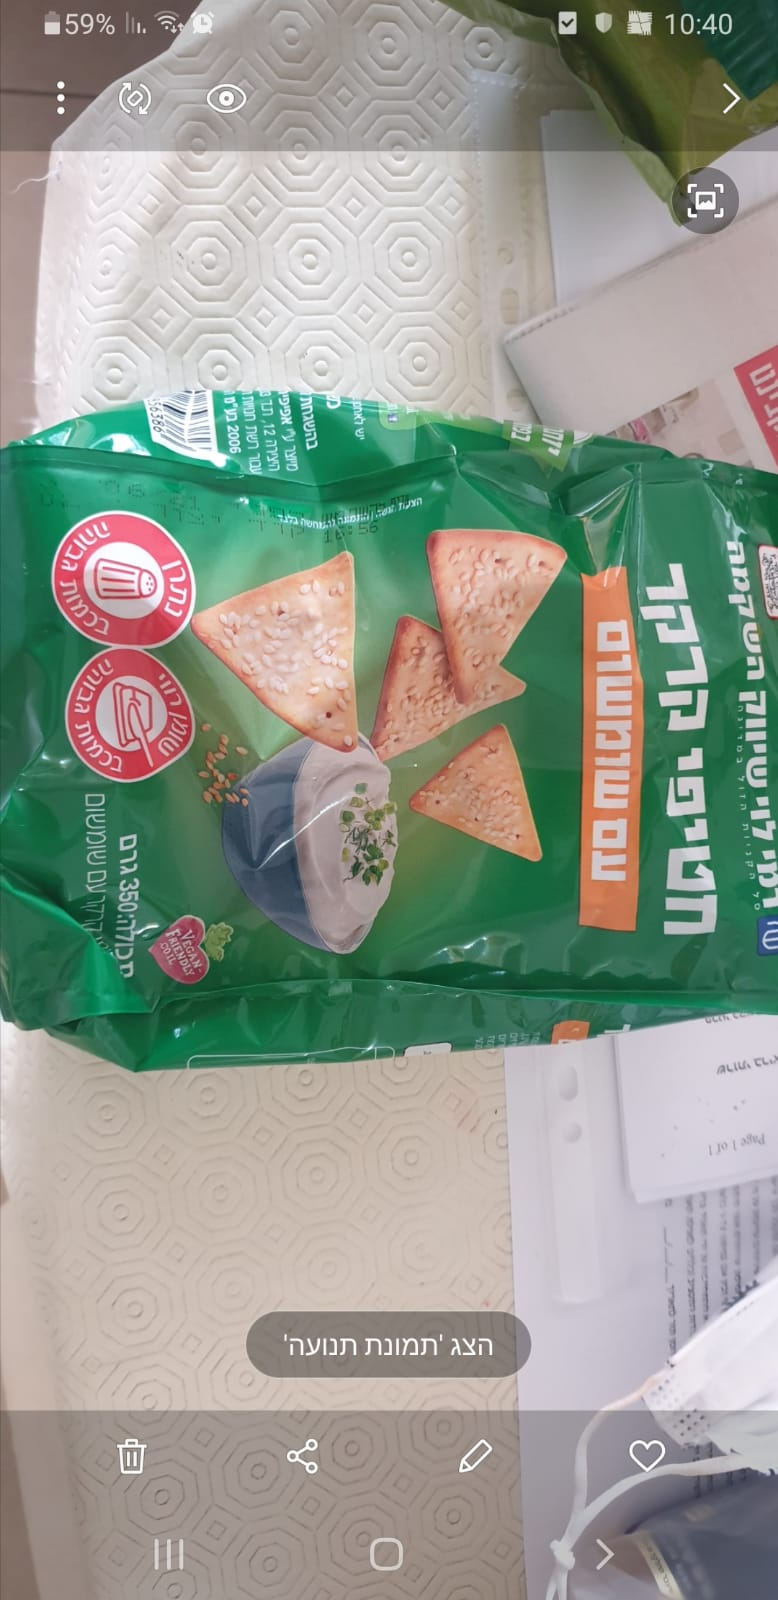fat: (63, 645, 193, 785)
salt: (46, 511, 196, 653)
